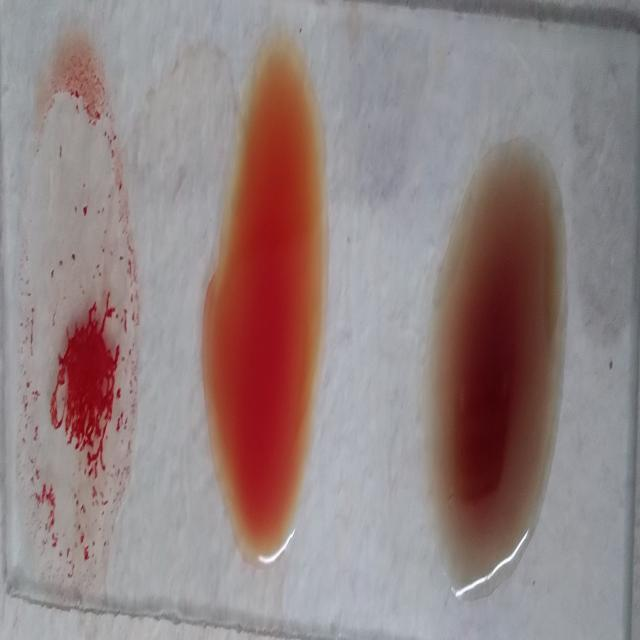D: (8, 49, 139, 584)
